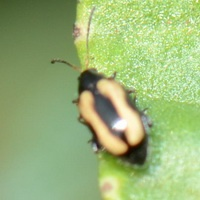insect: (75, 69, 147, 164)
